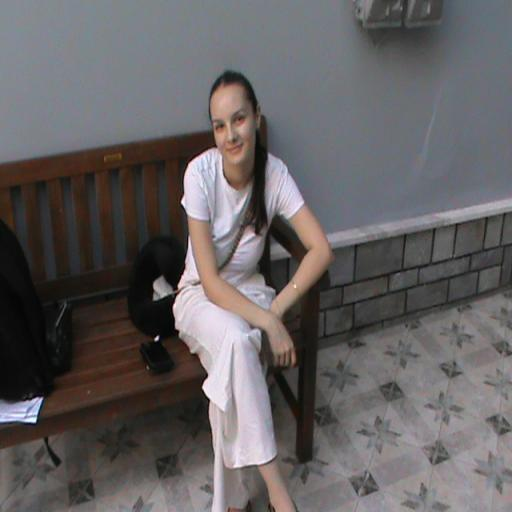marija: (210, 92, 258, 167)
